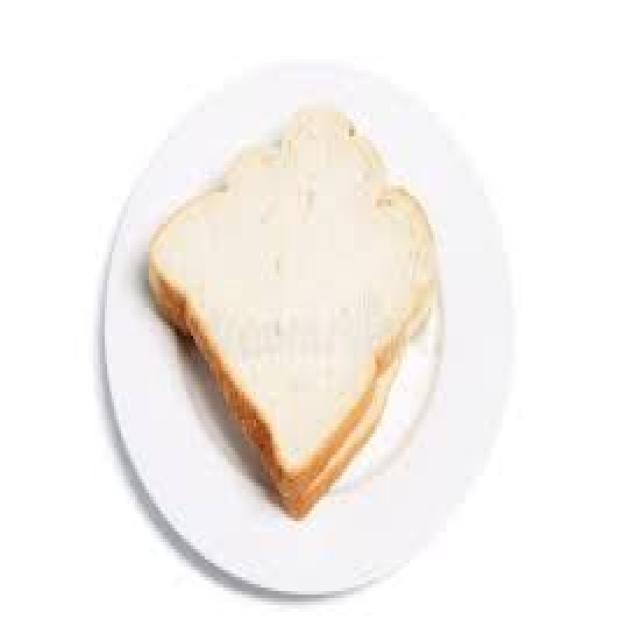Bread: (0, 2, 640, 637)
